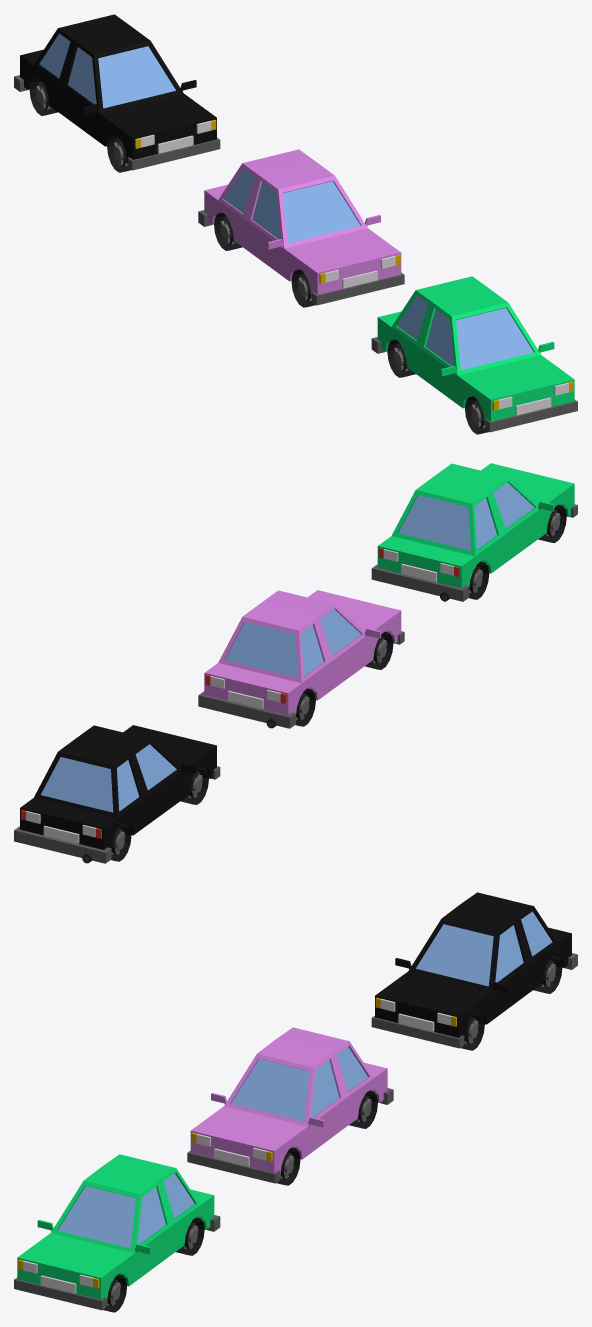
File: car.glb
3 renders of one model, top to bottom at view 1: azimuth 30°, elevation 25°; view 2: azimuth 150°, elevation 25°; view 3: azimuth 330°, elevation 25°, orthographic.
Parts seen in each view (by area): view 1: zar.001, zar, zar.002, Cylinder.002, Cylinder.008, Cylinder.004, Cylinder.001, Cylinder.003, Cylinder.007; view 2: zar, zar.001, zar.002, Cylinder.003, Cylinder.001, Cylinder.007, Cylinder.008, Cylinder.002, Cylinder.004; view 3: zar.001, zar, zar.002, Cylinder.002, Cylinder.004, Cylinder.008, Cylinder.001, Cylinder.003, Cylinder.007.
Boxes of the visible parts, box(x1,y1,x2,y2) form: zar.001: box(198, 149, 404, 305); zar: box(371, 276, 577, 432); zar.002: box(14, 14, 220, 170); Cylinder.002: box(387, 339, 415, 377); Cylinder.008: box(29, 77, 57, 115); Cylinder.004: box(214, 212, 242, 250); Cylinder.001: box(465, 396, 488, 434); Cylinder.003: box(291, 269, 315, 307); Cylinder.007: box(107, 134, 130, 172); zar: box(371, 463, 577, 601); zar.001: box(198, 590, 404, 728); zar.002: box(14, 725, 220, 863); Cylinder.003: box(365, 631, 393, 669); Cylinder.001: box(538, 505, 566, 542); Cylinder.007: box(180, 766, 208, 804); Cylinder.008: box(111, 823, 131, 861); Cylinder.002: box(469, 561, 489, 599); Cylinder.004: box(295, 688, 315, 726); zar.001: box(187, 1027, 393, 1183); zar: box(14, 1154, 220, 1310); zar.002: box(371, 892, 577, 1048); Cylinder.002: box(176, 1217, 204, 1255); Cylinder.004: box(349, 1090, 377, 1128); Cylinder.008: box(533, 955, 562, 993); Cylinder.001: box(103, 1274, 126, 1312); Cylinder.003: box(276, 1147, 300, 1185); Cylinder.007: box(461, 1012, 484, 1050).
Size of the model in its own units: 0.5389 by 0.4011 by 3.94.
